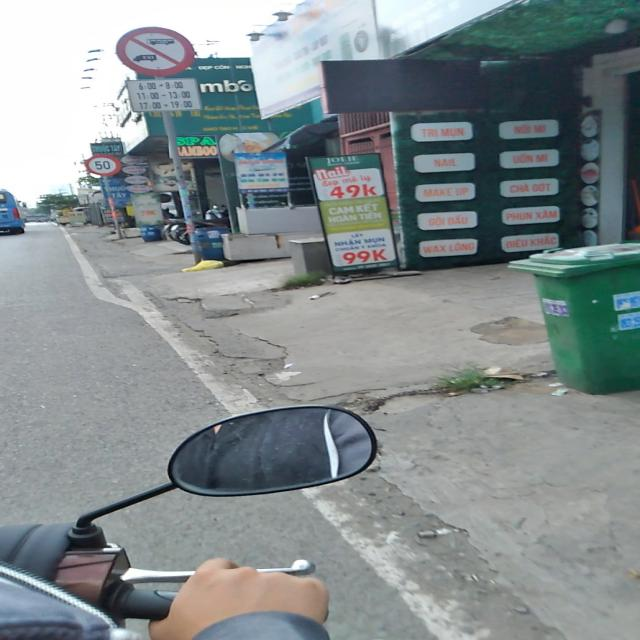Toc do toi da: (83, 154, 123, 176)
